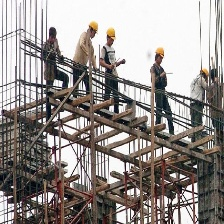helmet: (105, 26, 119, 42), (87, 20, 99, 34), (155, 45, 166, 59)
person: (151, 42, 176, 131), (102, 28, 125, 115), (75, 18, 99, 92), (46, 25, 63, 101), (189, 66, 206, 132)
